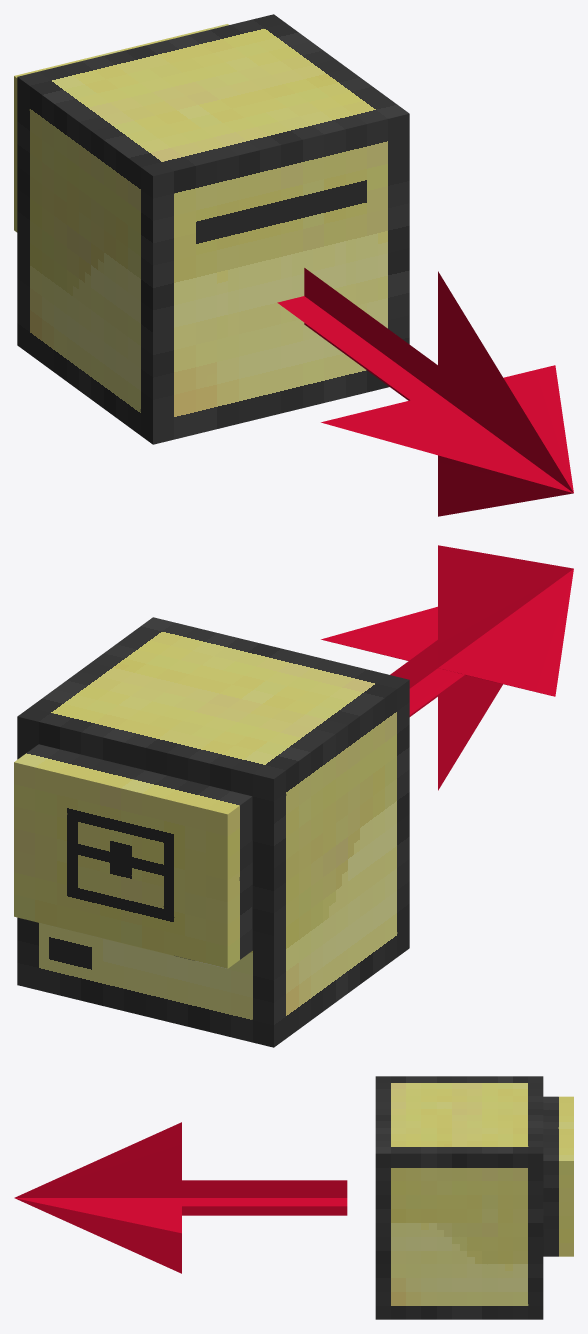
Rendered from turtle.glb.
3 renders of one model, top to bottom at view 1: azimuth 30°, elevation 25°; view 2: azimuth 150°, elevation 25°; view 3: azimuth 270°, elevation 25°, orthographic. The views are drawn at different scales.
Visible parts, largest first — view 1: Cube.001, Cone.001, Cone; view 2: Cube.001, Cone.001, Cone; view 3: Cube.001, Cone.001, Cone.
Part boxes in pixels (box(x1,y1,x2,y2)): Cube.001: box(14, 14, 409, 444); Cone.001: box(304, 268, 573, 516); Cone: box(277, 296, 573, 493); Cube.001: box(14, 617, 409, 1047); Cone.001: box(390, 545, 573, 790); Cone: box(321, 569, 573, 714); Cube.001: box(375, 1076, 573, 1319); Cone.001: box(14, 1122, 347, 1273); Cone: box(15, 1198, 347, 1233).
Size of the model in its own units: 0.75 by 0.75 by 2.29.
2 materials, 1 textured.
